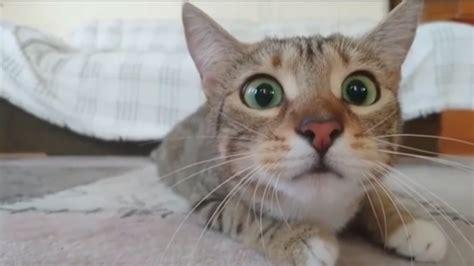cat: (151, 1, 447, 266)
